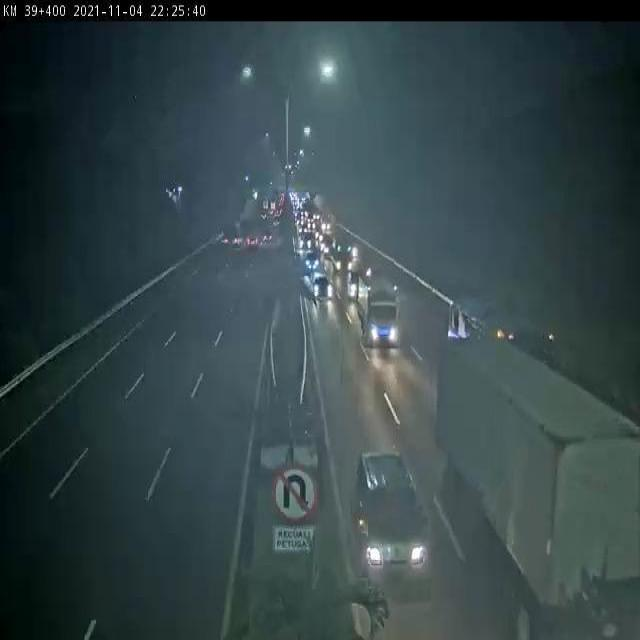bus-l-: (450, 299, 542, 336)
car: (352, 454, 428, 594), (311, 265, 333, 304), (243, 231, 263, 257)
truck-m-: (349, 277, 401, 352)
truck-xl-: (438, 333, 640, 640)
